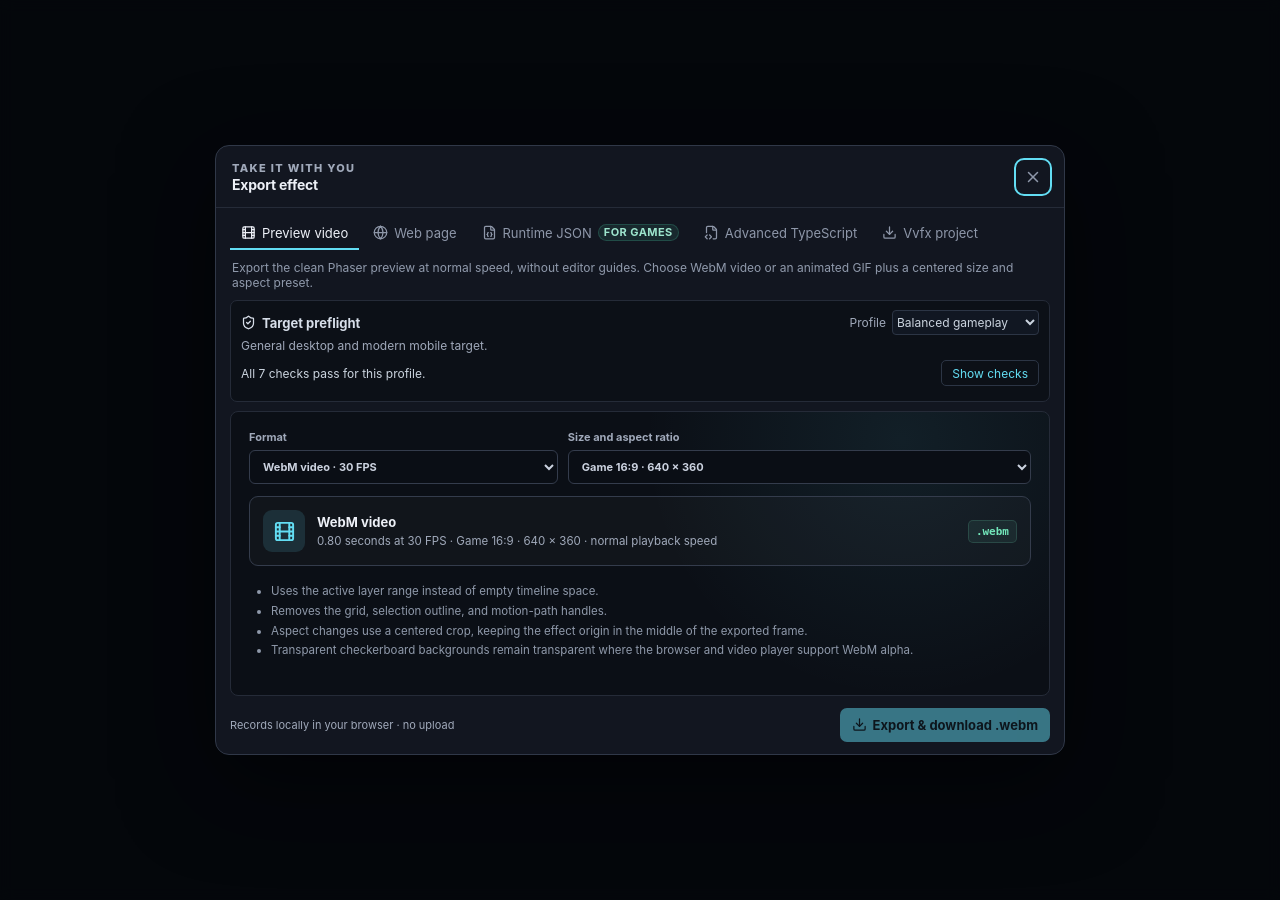
Scenario: ExportDialog clipboard and WebM capability state › cancels GIF capture on primary pointer-down and ignores a late result
This screenshot has width=1280, height=900.
Select "Animated GIF · 15 FPS" in the dropdown labelled "Format" at x=403, y=467, box [249, 450, 558, 484]
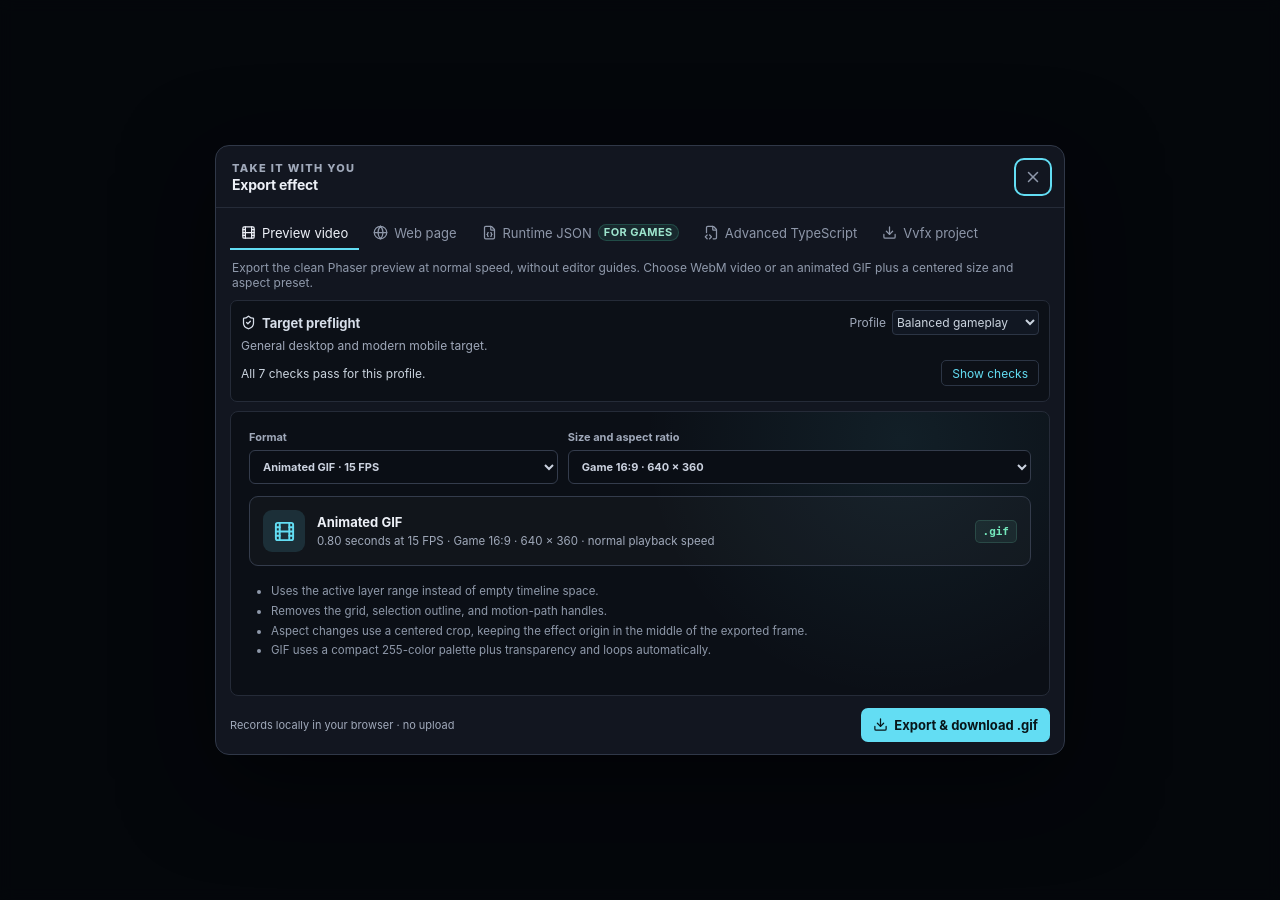
Click the button "Export & download .gif" at x=956, y=725, box [861, 708, 1050, 742]
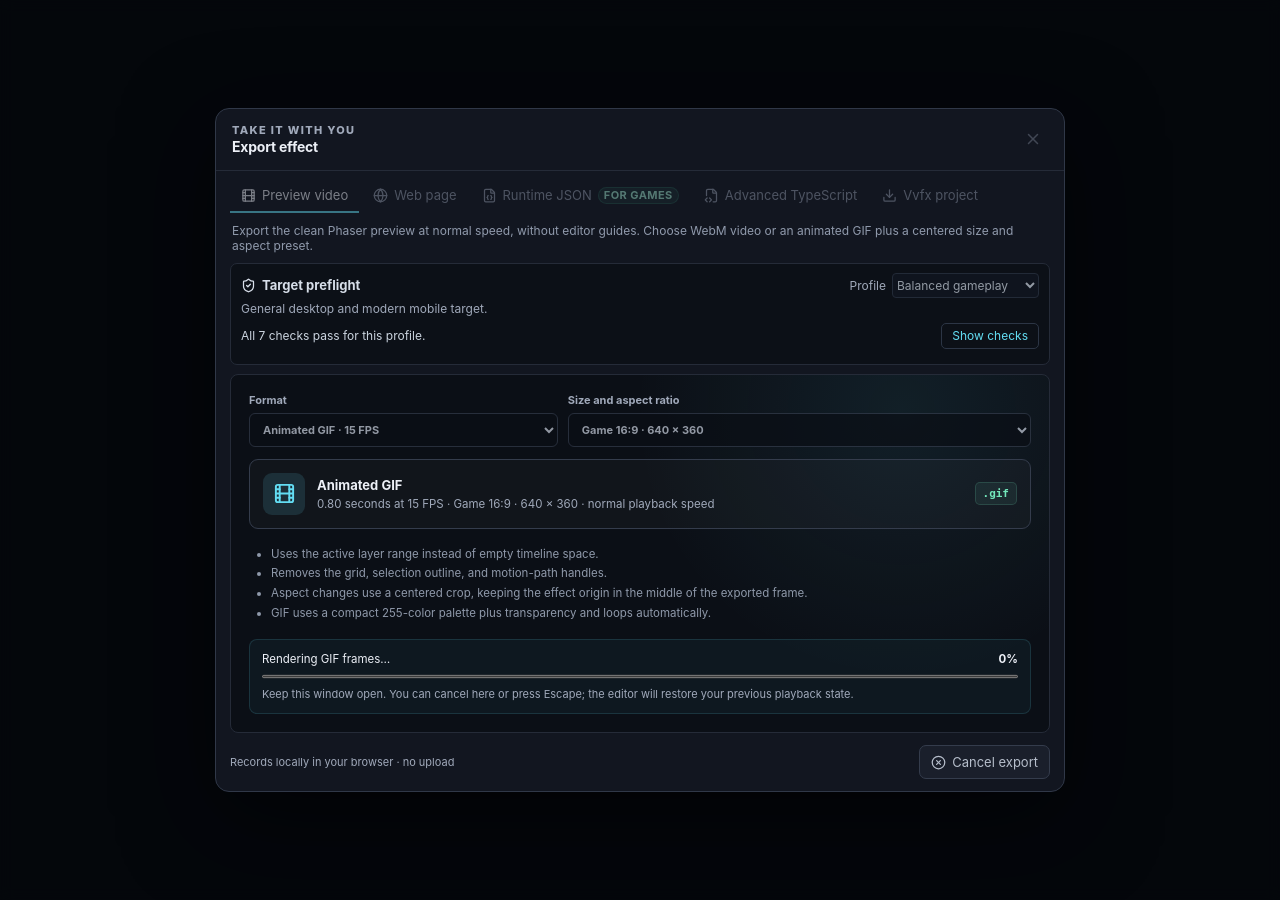
Click the button "Cancel export" at x=985, y=762, box [919, 745, 1050, 779]
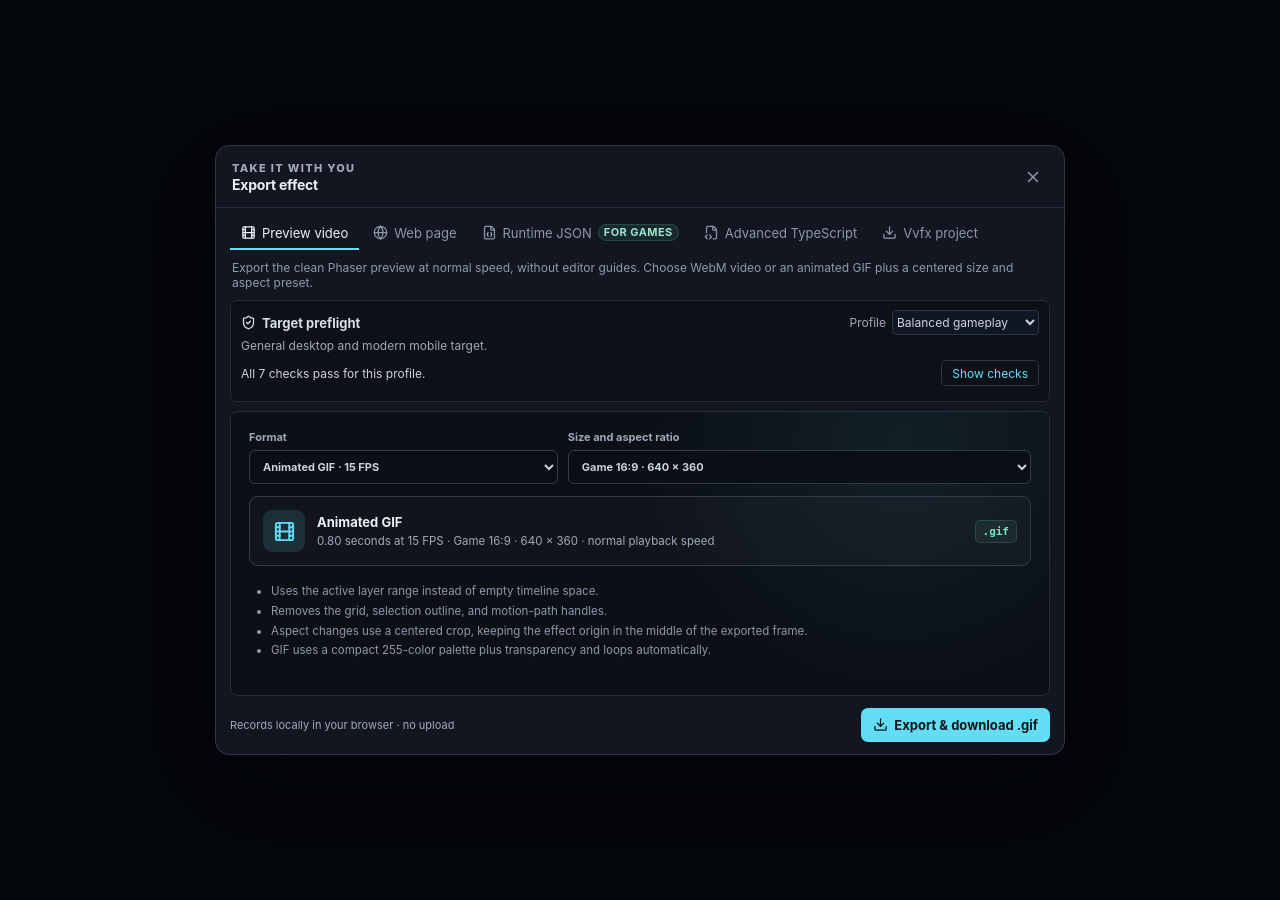
Expected: the button "Export & download .gif" is shown, [861, 708, 1050, 742]
